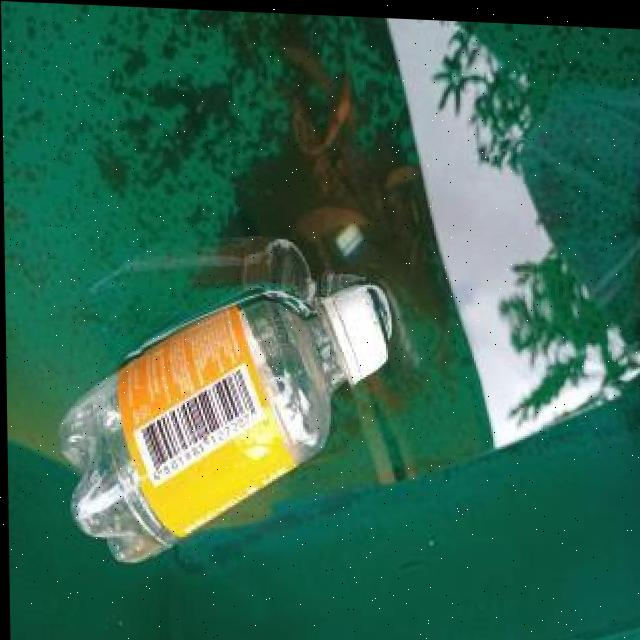bottle: (44, 259, 396, 580)
